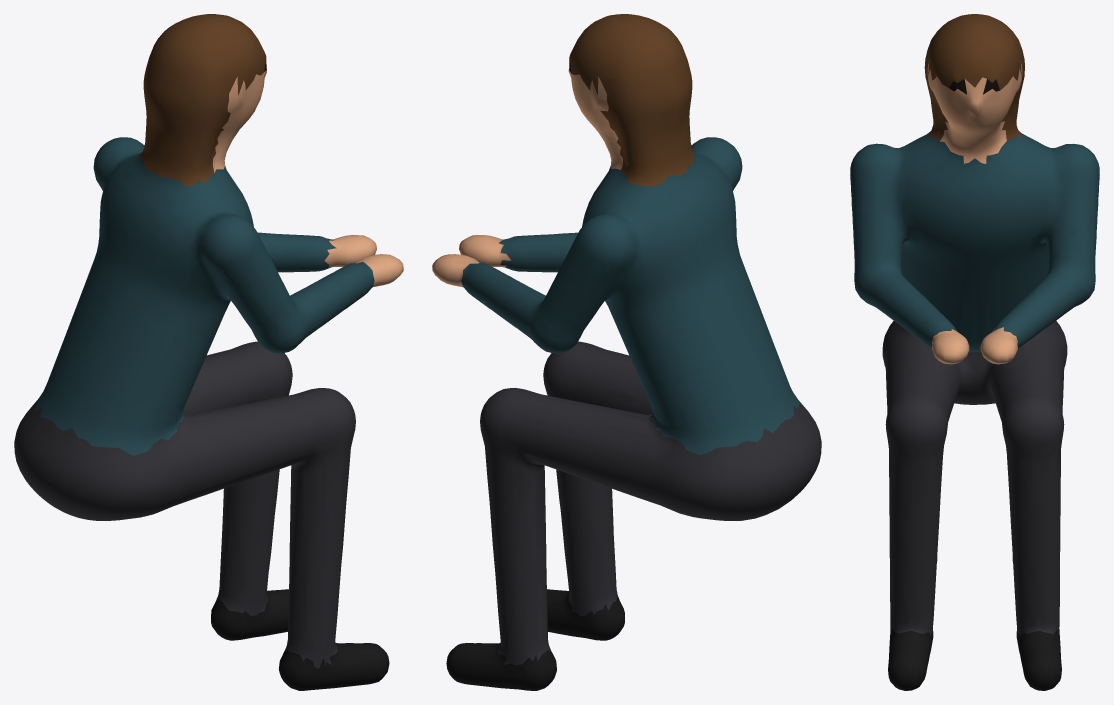
Rendered from SM_Crowd_Seated_E.glb.
3 renders of one model, left to right at view 1: azimuth 30°, elevation 25°; view 2: azimuth 150°, elevation 25°; view 3: azimuth 270°, elevation 25°, orthographic. The views are drawn at different scales.
Parts seen in each view (by area): view 1: SM_Crowd_Seated_E; view 2: SM_Crowd_Seated_E; view 3: SM_Crowd_Seated_E.
Part boxes in pixels (<box>): SM_Crowd_Seated_E: <box>14,14,403,690</box>; SM_Crowd_Seated_E: <box>432,14,821,690</box>; SM_Crowd_Seated_E: <box>850,14,1099,690</box>.
Size of the model in its own units: 0.7824 by 1.39 by 0.5144.
